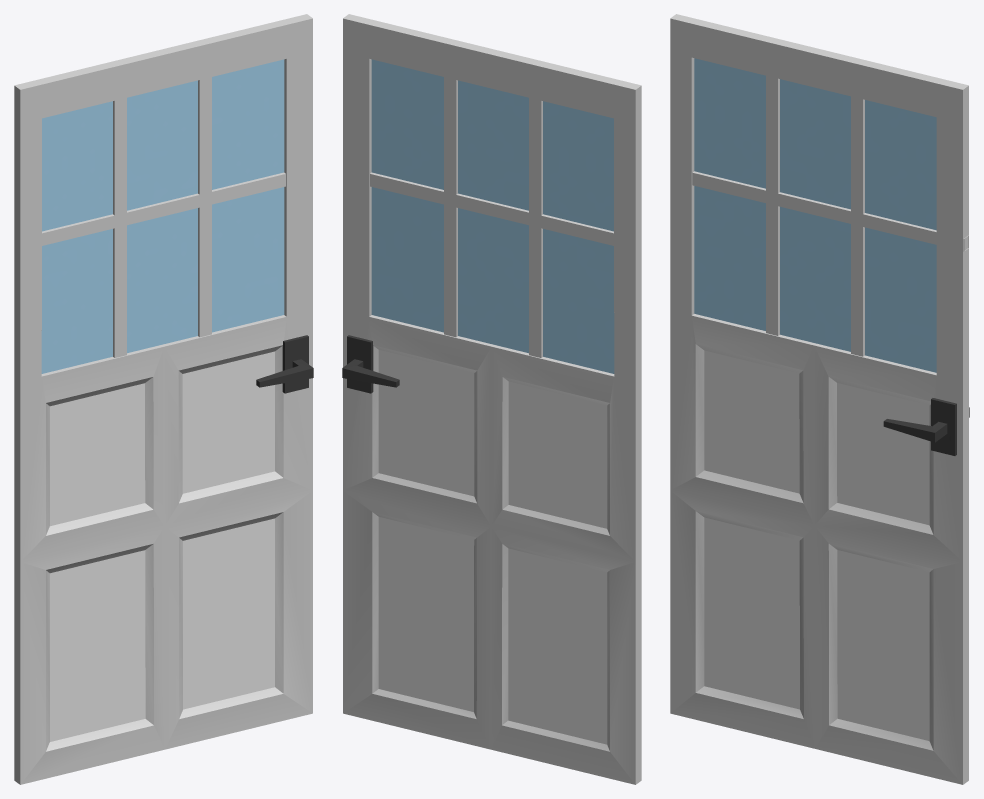
File: door_023.fbx
The picture shows the model from 3 angles, left to right: view 1: azimuth 30°, elevation 25°; view 2: azimuth 150°, elevation 25°; view 3: azimuth 330°, elevation 25°; orthographic projection.
Visible parts, largest first — view 1: door_023; view 2: door_023; view 3: door_023.
Part boxes in pixels (x1,y1,x2,y2): door_023: (14, 14, 313, 784); door_023: (342, 14, 641, 784); door_023: (670, 14, 969, 784).
Size of the model in its own units: 104 by 21.25 by 234.
